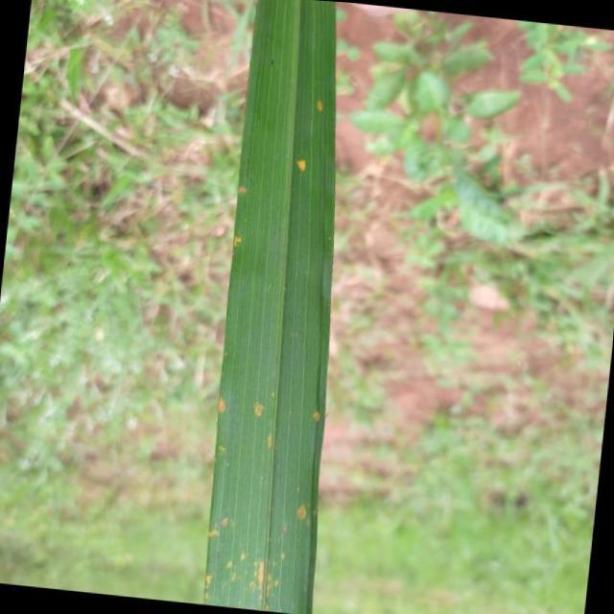Kalium: (208, 0, 342, 614)
